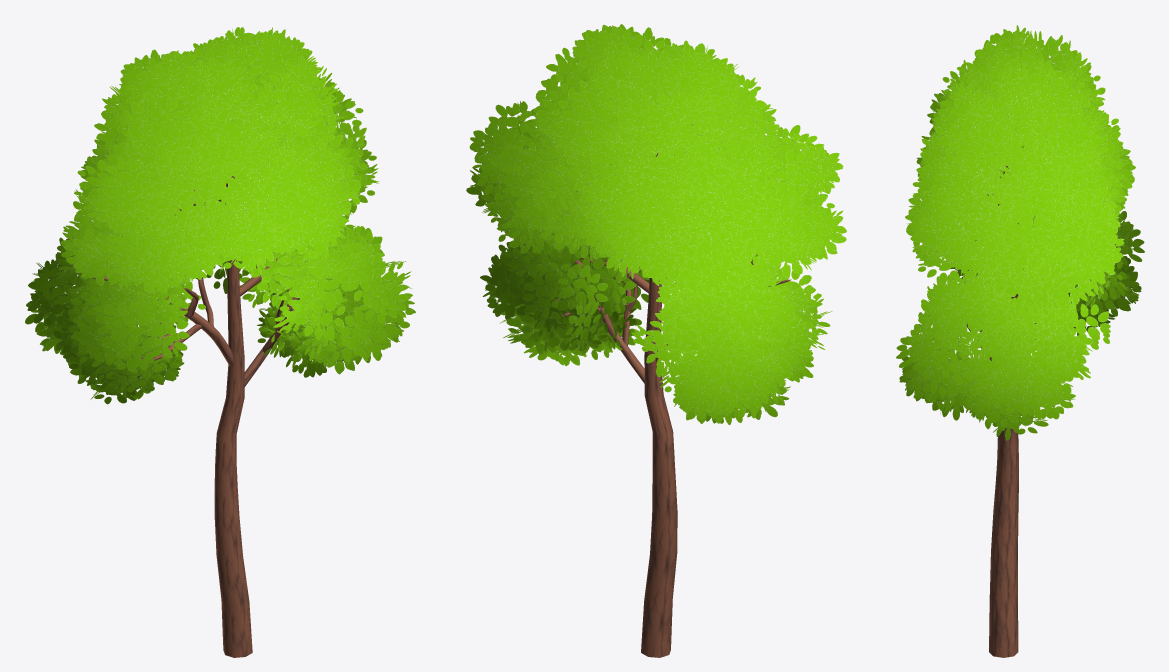
The model's file is tree_young_1.glb.
3 views of the same model, side by side, from view 1: azimuth 30°, elevation 25°; view 2: azimuth 150°, elevation 25°; view 3: azimuth 270°, elevation 25° (orthographic). The views are drawn at different scales.
Visible parts, largest first — view 1: NormalTree_1; view 2: NormalTree_1; view 3: NormalTree_1.
Part boxes in pixels (x1,y1,x2,y2): NormalTree_1: (25, 27, 415, 657); NormalTree_1: (466, 24, 846, 657); NormalTree_1: (896, 25, 1144, 657).
Size of the model in its own units: 4.05 by 6.87 by 2.74.
2 materials, 2 textured.
